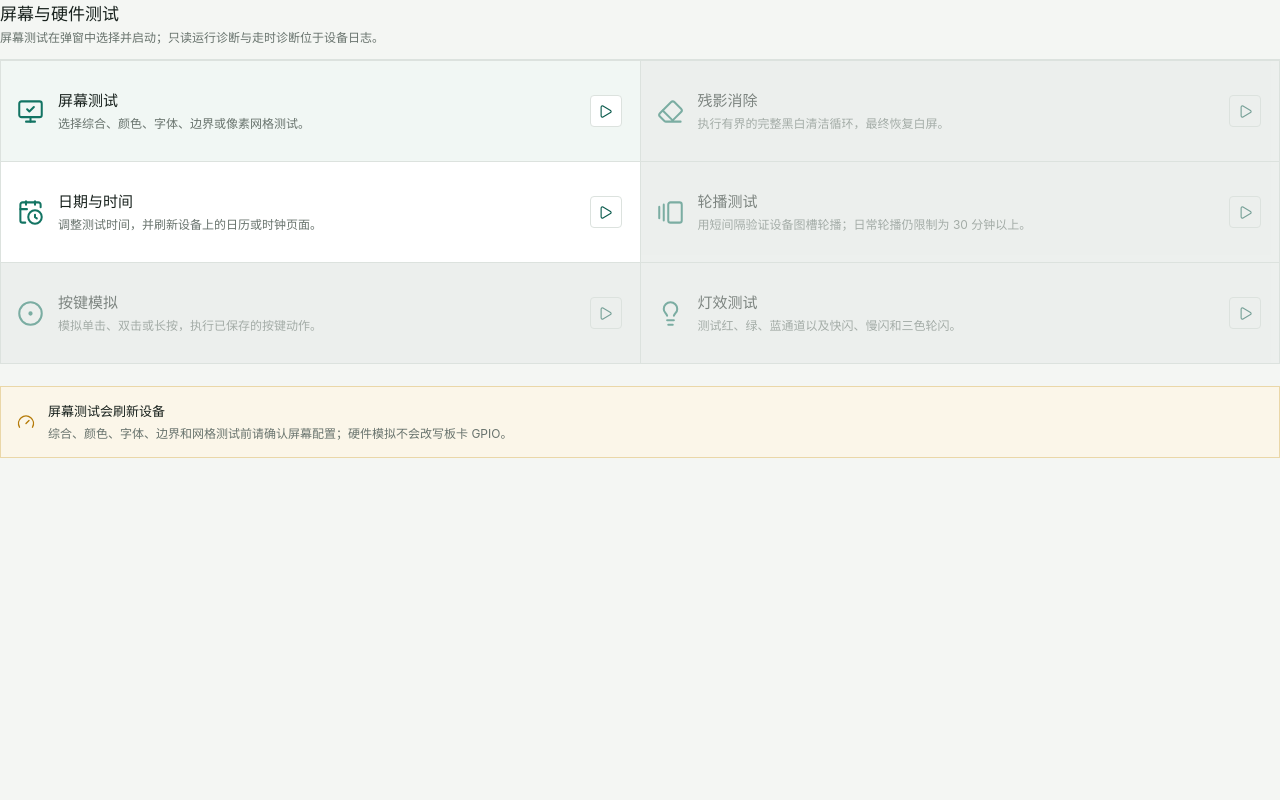
it: warns that date tests change device time and require restoring it afterwards
Click the button with class "test-card" showing "日期与时间 调整测试时间，并刷新设备上的日历或时钟页面。".
click(96, 202)  # box left=1, top=162, right=640, bottom=262
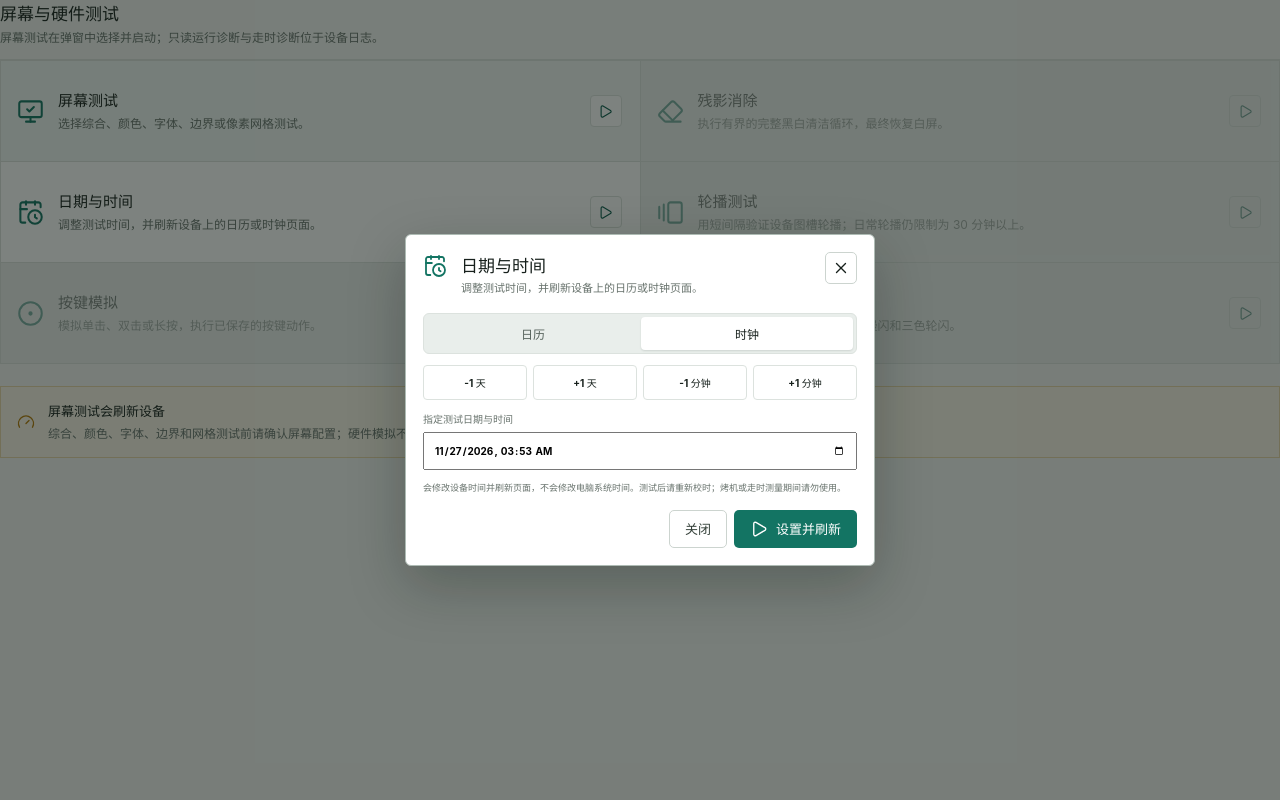
Now the dialog shows "会修改设备时间", box left=423, top=482, right=846, bottom=493
Now the dialog shows "测试后请重新校时", box left=423, top=482, right=846, bottom=493
